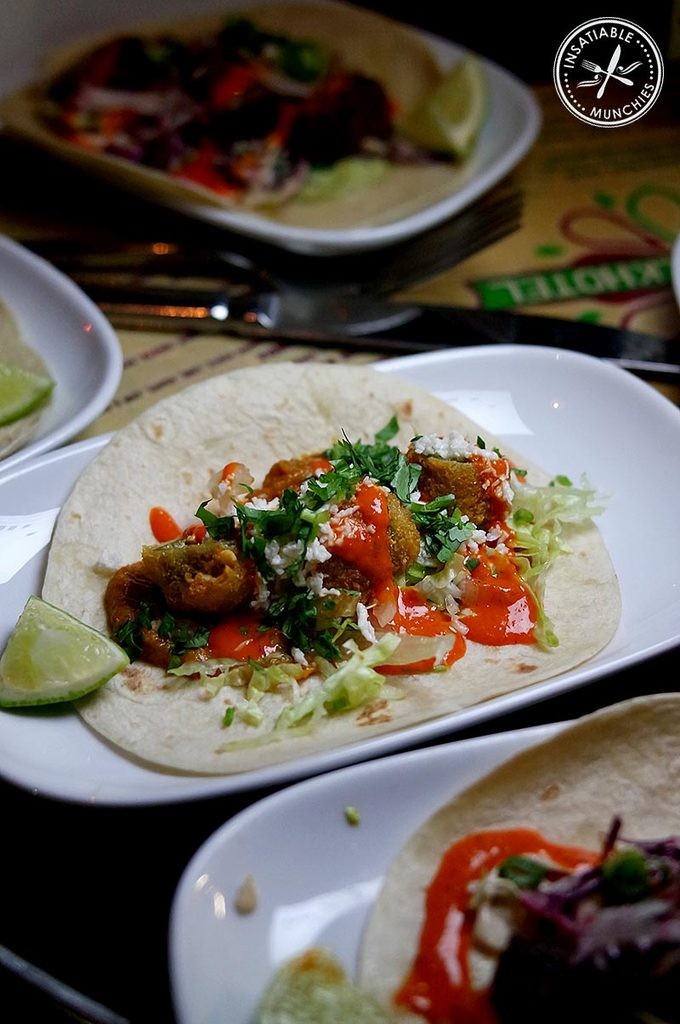taco: (42, 361, 624, 777), (349, 690, 679, 1023)
